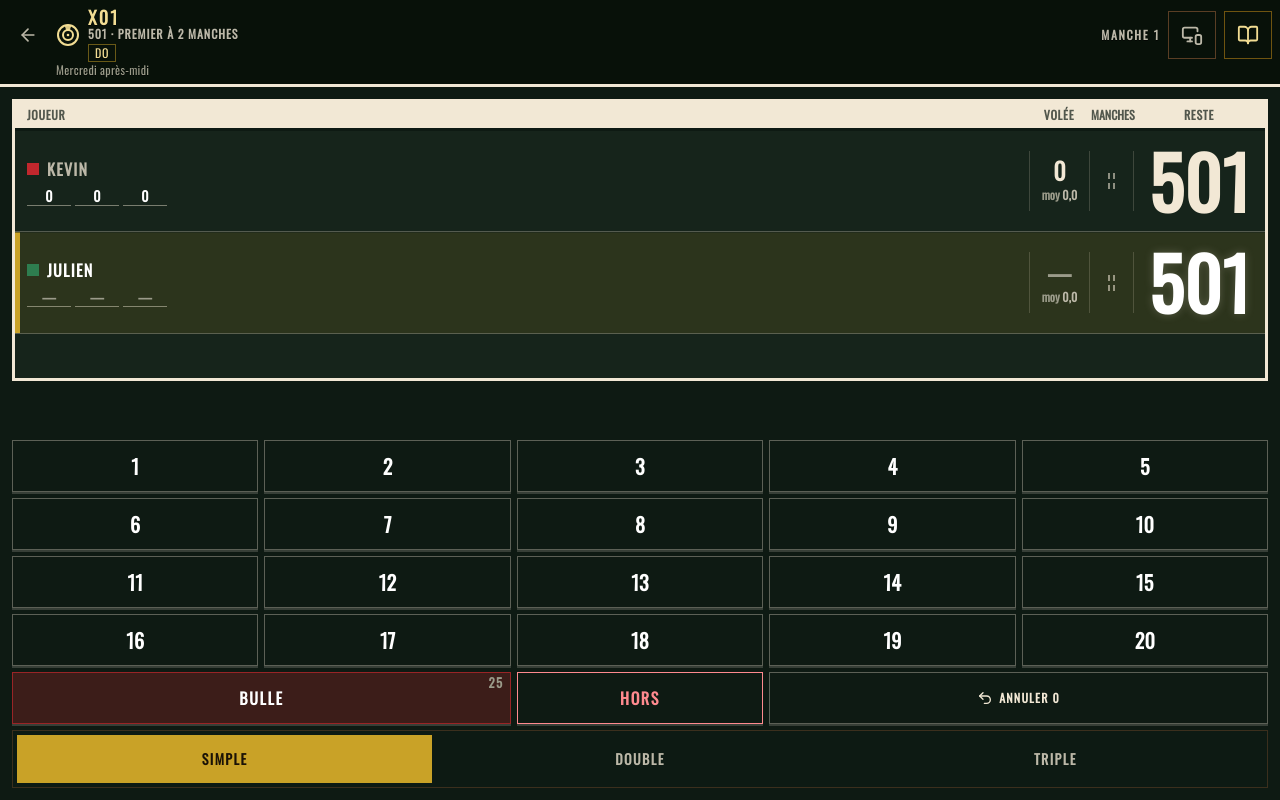
Test case: Annuler, double appui — X01 (écran) › critère 3 : deux fléchettes en cours, deux appuis les retirent sans pause
This screenshot has width=1280, height=800.
Expected: the button "Annuler 0" is enabled, [769,672,1268,724]
Step 1. Click the button "1" → (135, 466), box [12,440,258,492]
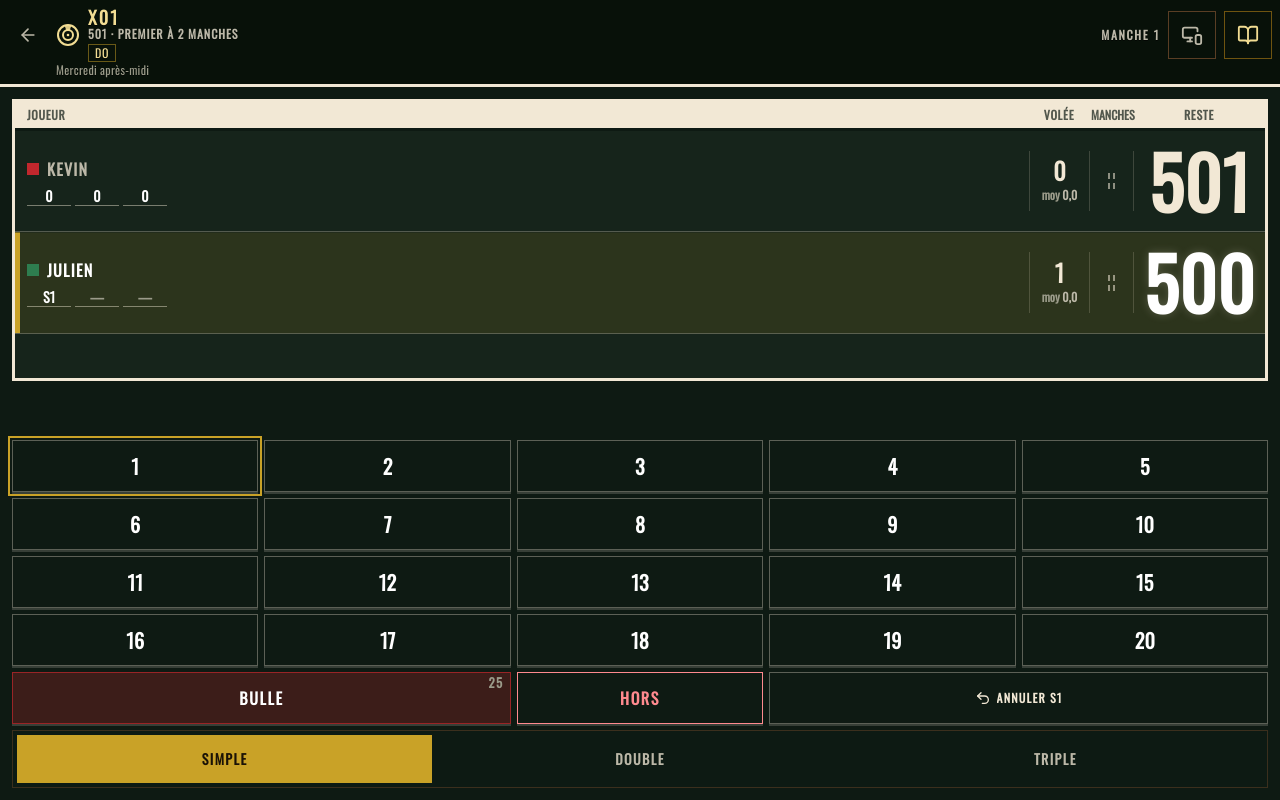
Step 2. Click the button "1" → (135, 466), box [12,440,258,492]
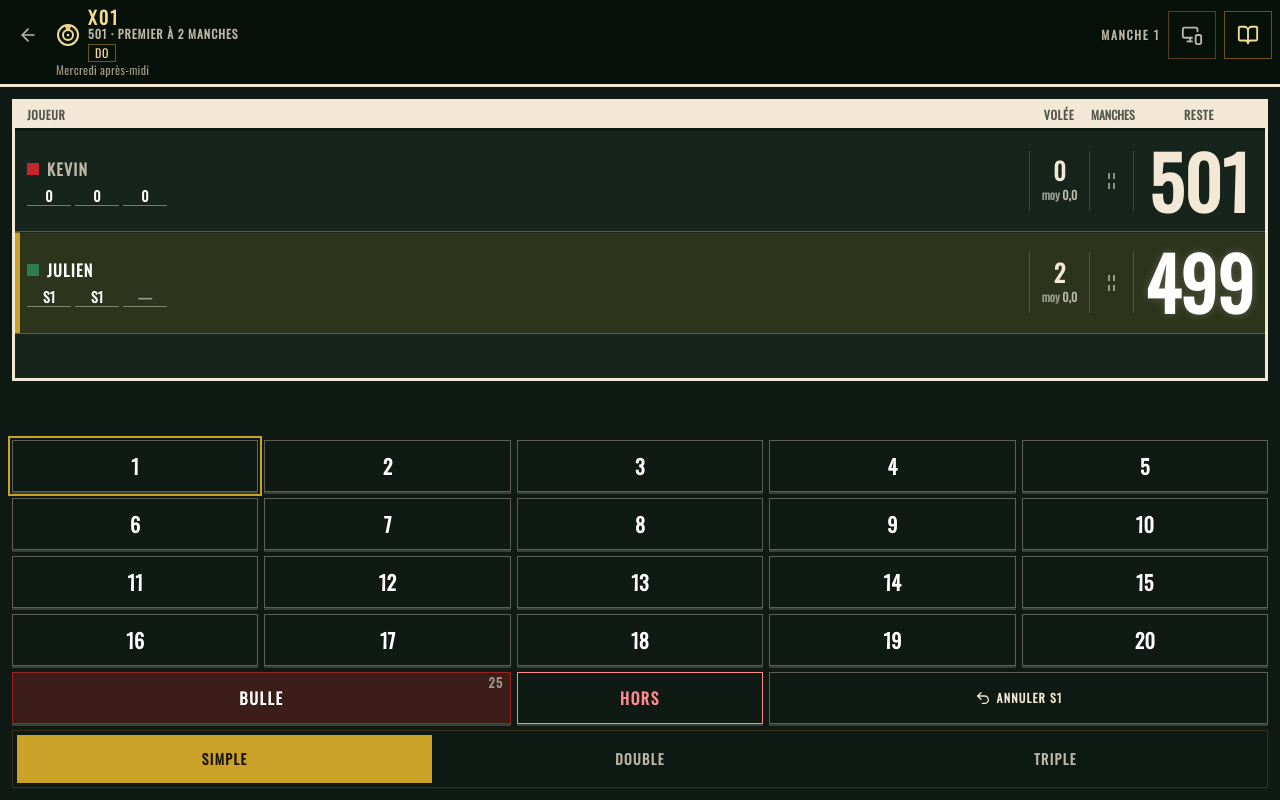
Step 3. Click the button "Annuler S1" → (1019, 698), box [769,672,1268,724]
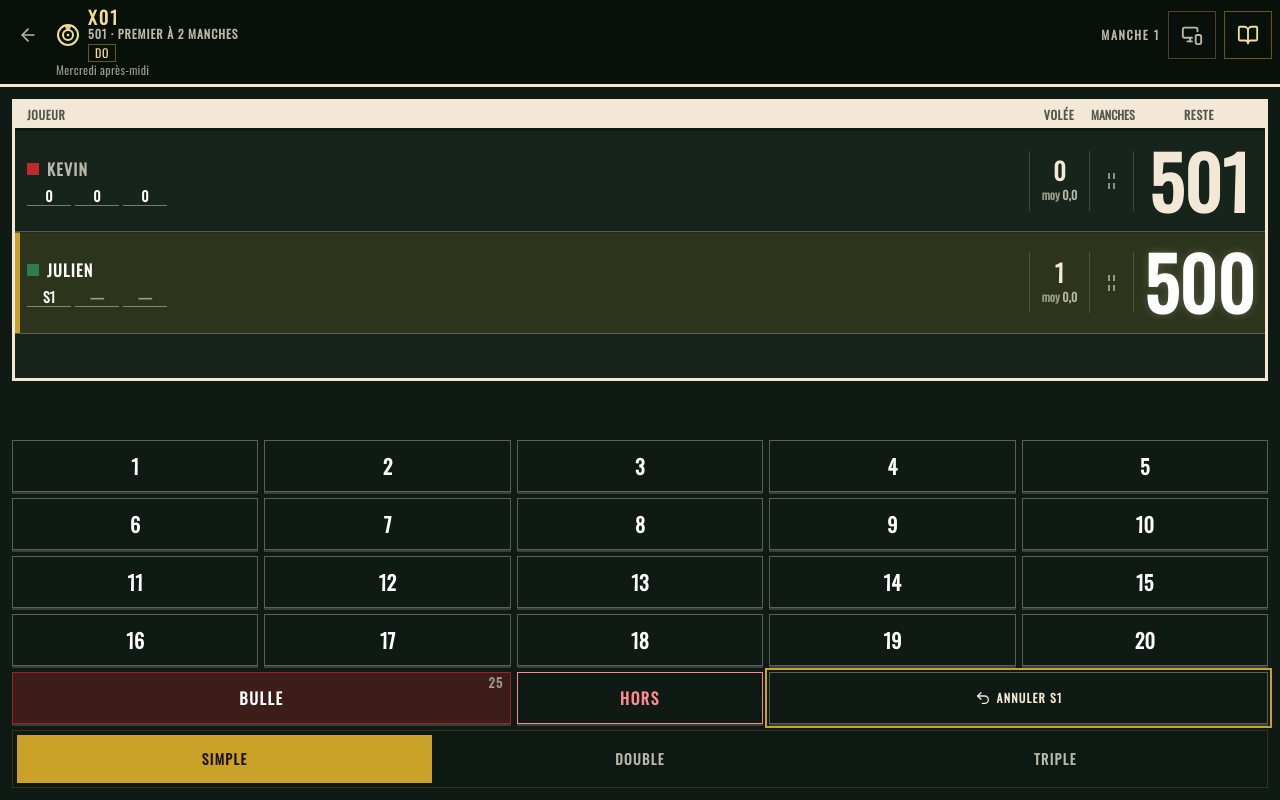
Step 4. Click the button "Annuler S1" → (1019, 698), box [769,672,1268,724]
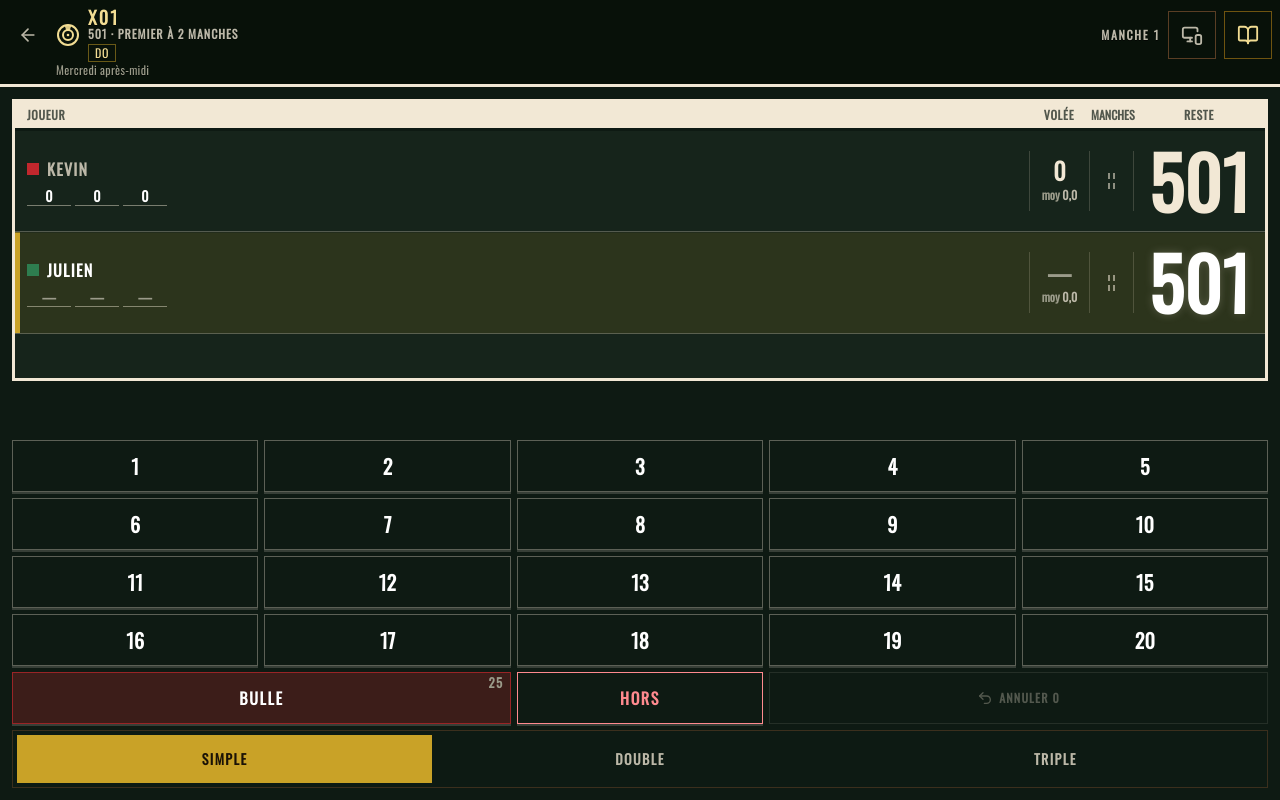
Now the button "Annuler 0" is disabled, box [769,672,1268,724]
